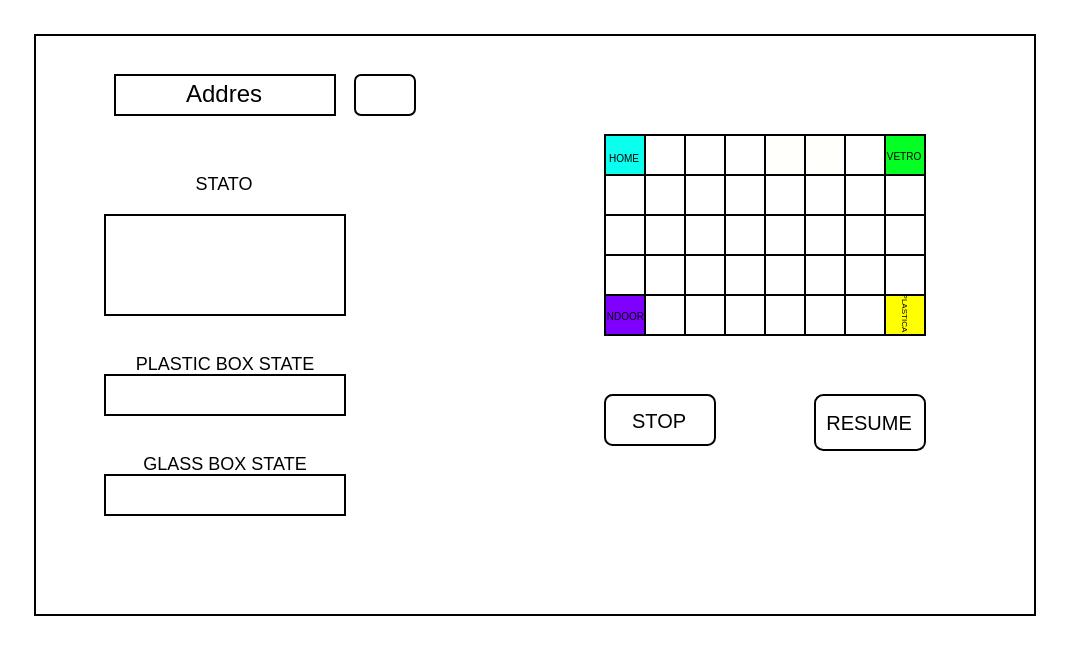
Some shapes in this 1070 by 650 pixel diagram are drawn without their labels. Here are the shapes that lost their labels. From the top down, the centre of each, then its label:
the point at 384,94: Button
the point at 224,264: ACCETTATO / NEGATO / IN ARRRIVO / SCARICAMENTO
